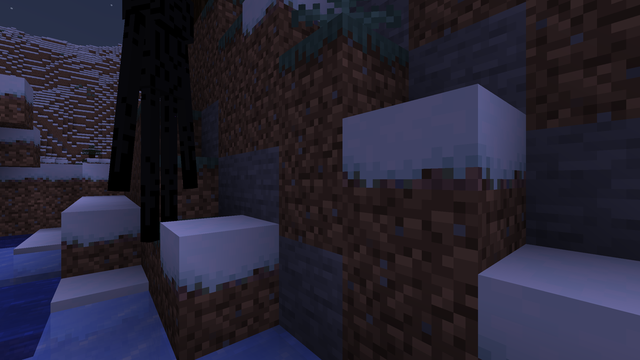endermens: (126, 2, 194, 240)
